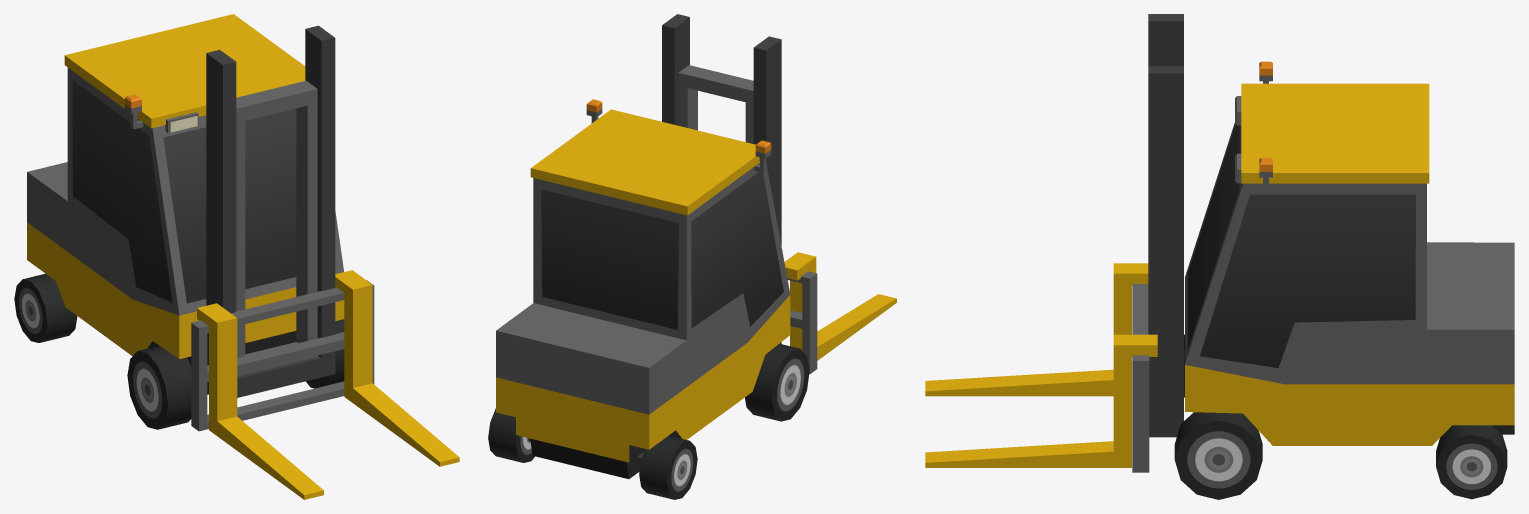
File: Forklift.fbx
The picture shows the model from 3 angles, left to right: view 1: azimuth 30°, elevation 25°; view 2: azimuth 150°, elevation 25°; view 3: azimuth 270°, elevation 25°; orthographic projection. The views are drawn at different scales.
Parts seen in each view (by area): view 1: Forklift, TireFR, TireBR, TireFL; view 2: Forklift, TireFR, TireBR, TireBL; view 3: Forklift, TireFL, TireBL.
Boxes of the visible parts, <box> form: Forklift: <box>27,14,459,499</box>; TireFR: <box>127,346,191,429</box>; TireBR: <box>14,273,77,342</box>; TireFL: <box>306,319,344,388</box>; Forklift: <box>496,14,896,478</box>; TireFR: <box>745,343,809,421</box>; TireBR: <box>639,435,697,499</box>; TireBL: <box>488,408,534,462</box>; Forklift: <box>925,14,1514,472</box>; TireFL: <box>1174,412,1262,499</box>; TireBL: <box>1436,425,1507,499</box>.
Bounding box in the file's own units: 116 × 214 × 281.
